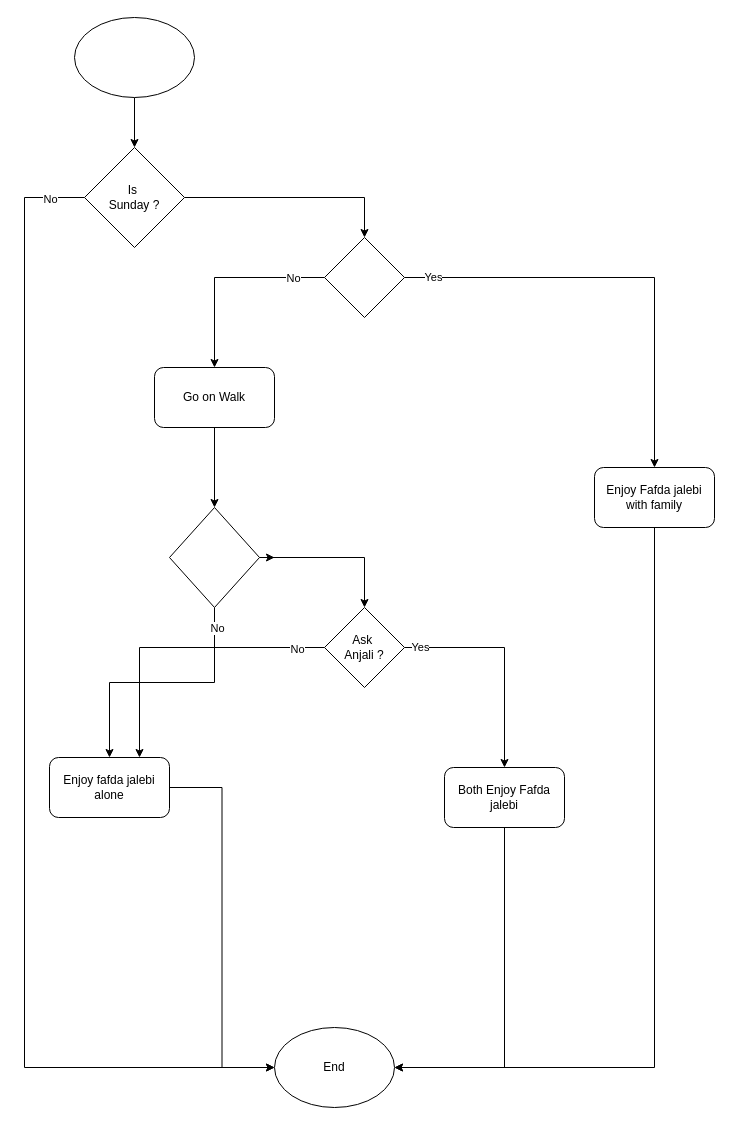
This 732x1125 diagram has some shape labels left out. The shapes that lost their labels are listed below. From the top down, each one's centre as x and y in pixels, then its label:
At point (134, 57): "Start".
At point (364, 277): "Ask Bapuji ?".
At point (214, 557): "Ask maheta saheb ?".
